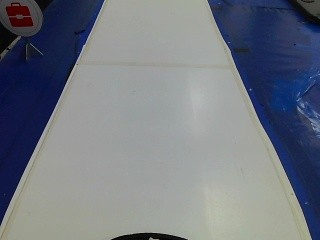company: (0, 0, 43, 39)
